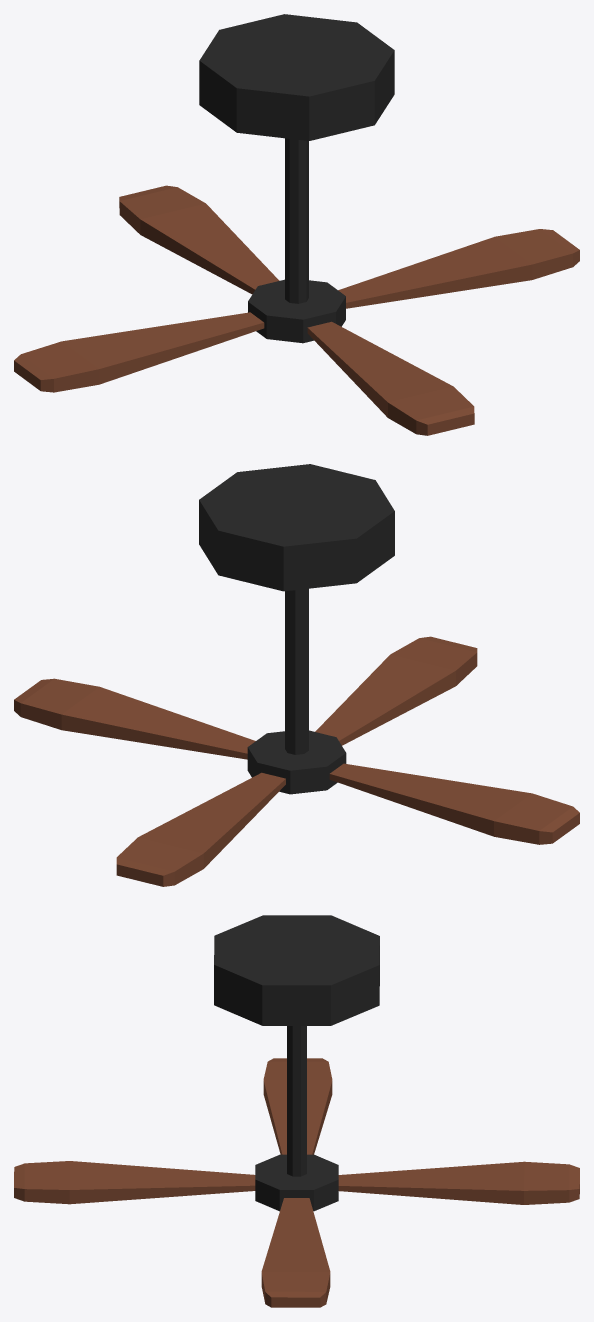
File: Ventilador_de_teto.fbx
3 views of the same model, one above another, from view 1: azimuth 30°, elevation 25°; view 2: azimuth 150°, elevation 25°; view 3: azimuth 270°, elevation 25° (orthographic). The views are drawn at different scales.
Visible parts, largest first — view 1: Ventilador; view 2: Ventilador; view 3: Ventilador.
Part boxes in pixels (<box>): Ventilador: <box>14,14,579,435</box>; Ventilador: <box>14,464,579,886</box>; Ventilador: <box>14,915,579,1307</box>.
Bounding box in the file's own units: 632 × 300 × 632.
